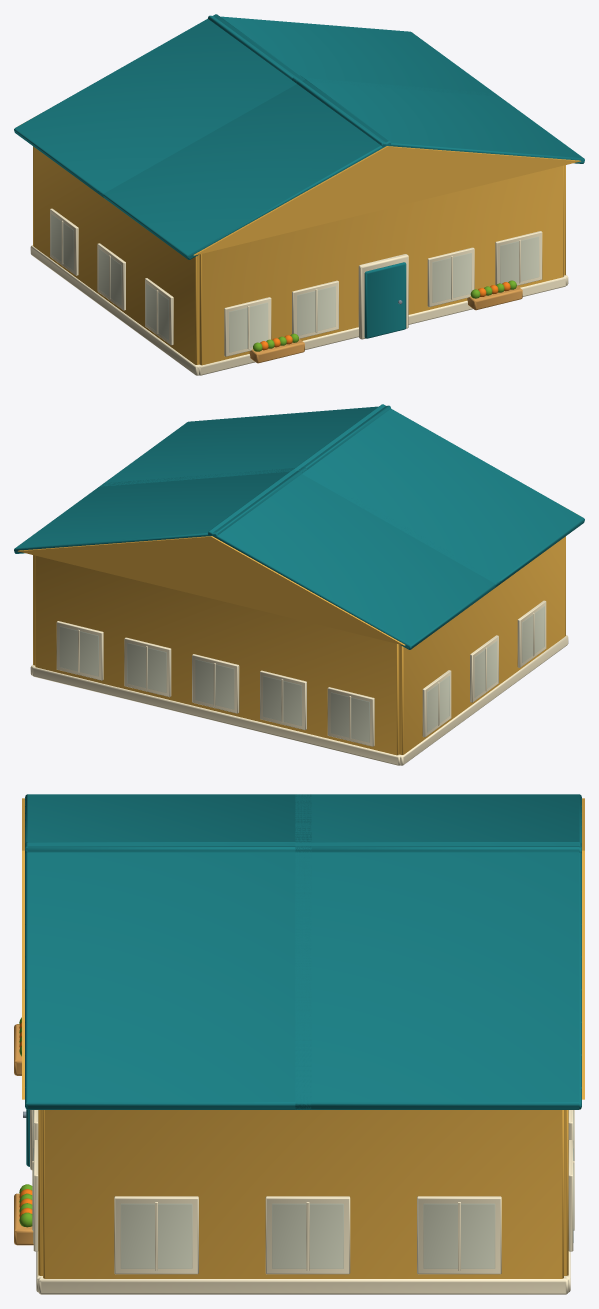
File: project_3.glb
3 views of the same model, one above another, from view 1: azimuth 30°, elevation 25°; view 2: azimuth 150°, elevation 25°; view 3: azimuth 270°, elevation 25° (orthographic). The views are drawn at different scales.
Visible parts, largest first — view 1: roof half.006, roof half.004, wall.005, wall.006, painted gable.003, foundation trim.005, foundation trim.006, blue window.021, door.002, blue window.026, door frame.001, planter.002 (+1 smaller); view 2: roof half.006, roof half.004, wall.004, foundation trim.004, wall.006, painted gable.002, blue window.016, foundation trim.006, blue window.026; view 3: roof half.004, roof half.006, wall.007, foundation trim.007, blue window.029, foundation trim.004, foundation trim.005, painted gable.002, painted gable.003, wall.004, wall.005.
Part boxes in pixels (x1,y1,x2,y2): roof half.006: (98,75,584,259); roof half.004: (14,14,498,197); wall.005: (199,165,563,365); wall.006: (33,146,199,364); painted gable.003: (193,146,580,255); foundation trim.005: (199,231,566,375); foundation trim.006: (30,208,199,375); blue window.021: (229,237,538,351); door.002: (364,262,406,338); blue window.026: (51,214,168,339); door frame.001: (358,254,408,339); planter.002: (249,339,304,363); roof half.006: (99,404,584,587); roof half.004: (14,466,500,649); wall.004: (35,555,399,755); foundation trim.004: (32,621,399,765); wall.006: (399,536,565,754); painted gable.002: (18,536,405,645); blue window.016: (60,627,369,741); foundation trim.006: (399,600,568,765); blue window.026: (427,606,544,731); roof half.004: (295,794,581,1109); roof half.006: (25,794,311,1109); wall.007: (43,1110,563,1278); foundation trim.007: (38,1196,568,1294); blue window.029: (121,1204,494,1268); foundation trim.004: (565,1110,574,1292); foundation trim.005: (32,1110,41,1292); painted gable.002: (582,798,584,1099); painted gable.003: (22,798,24,1099); wall.004: (564,1110,568,1275); wall.005: (38,1110,42,1275).
Bounding box in the file's own units: 16.44 × 7.64 × 12.82.
